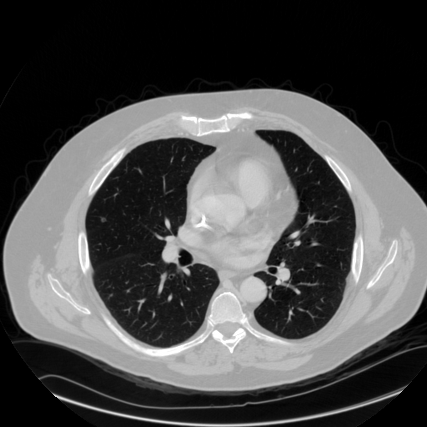nodule: (101, 218, 105, 222)
